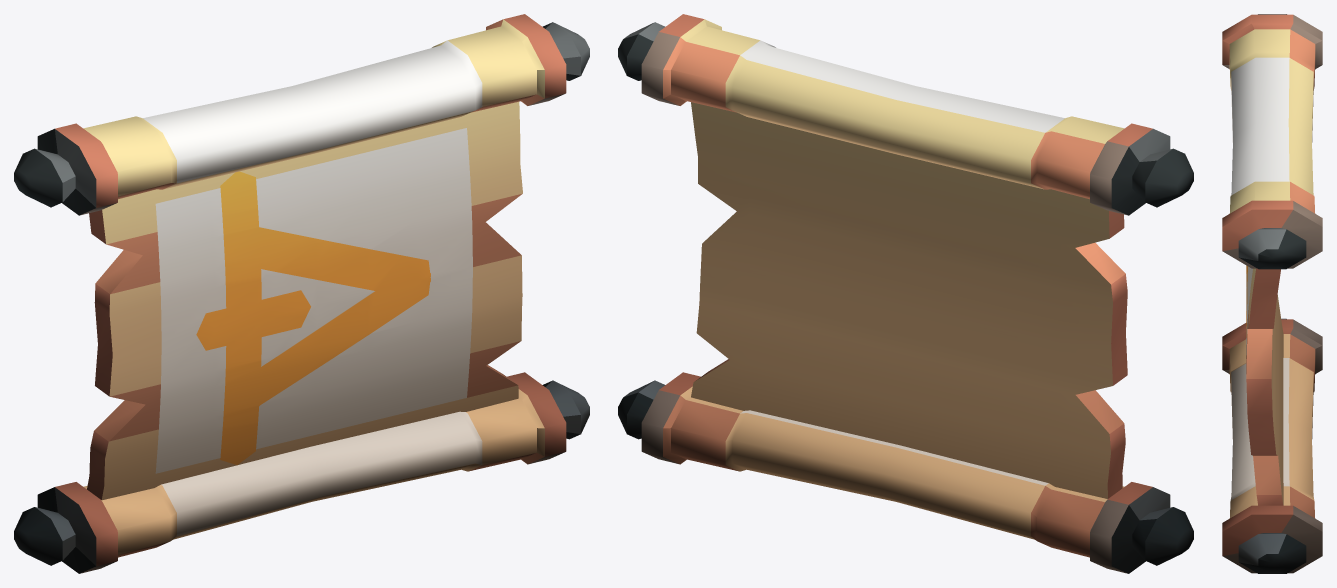
Rendered from scroll_orange_thurisaz.glb.
The picture shows the model from 3 angles, left to right: view 1: azimuth 30°, elevation 25°; view 2: azimuth 150°, elevation 25°; view 3: azimuth 270°, elevation 25°; orthographic projection. The views are drawn at different scales.
Visible parts, largest first — view 1: Item; view 2: Item; view 3: Item.
Boxes of the visible parts, x1=… form: Item: x1=14, y1=14, x2=589, y2=573; Item: x1=618, y1=14, x2=1193, y2=573; Item: x1=1222, y1=14, x2=1322, y2=573.
Bounding box in the file's own units: 0.88 × 0.64 × 0.1595.
2 materials, 2 textured.
